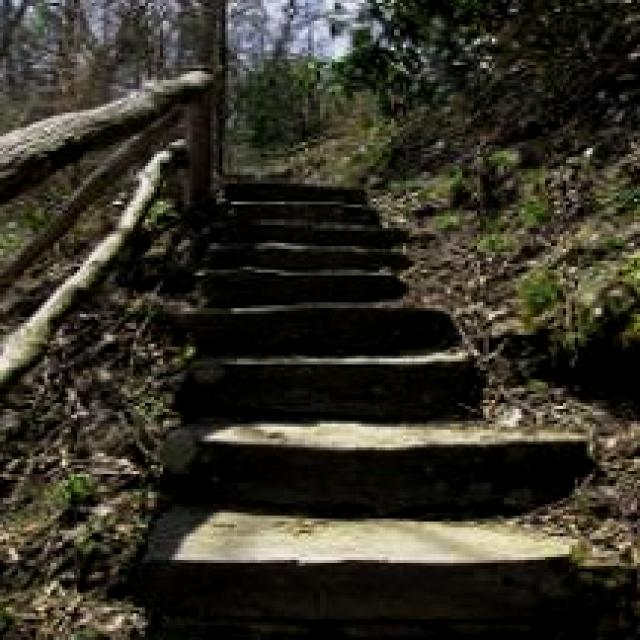upstair: (179, 191, 585, 582)
